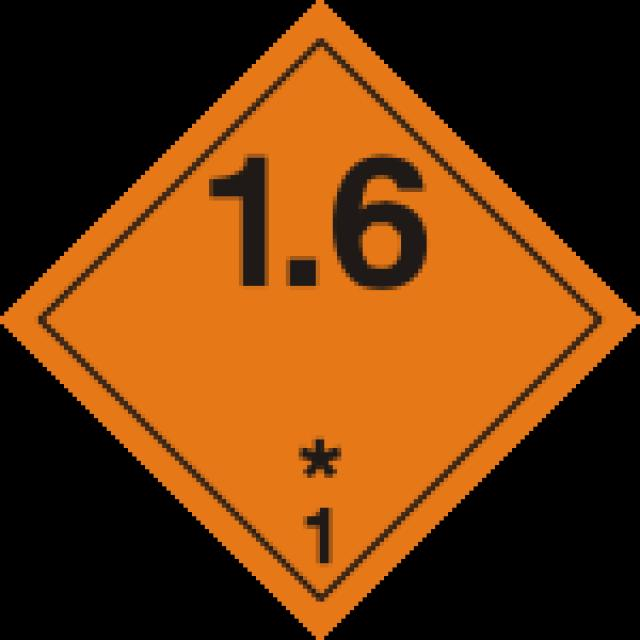Division 1-6: (4, 4, 640, 640)
